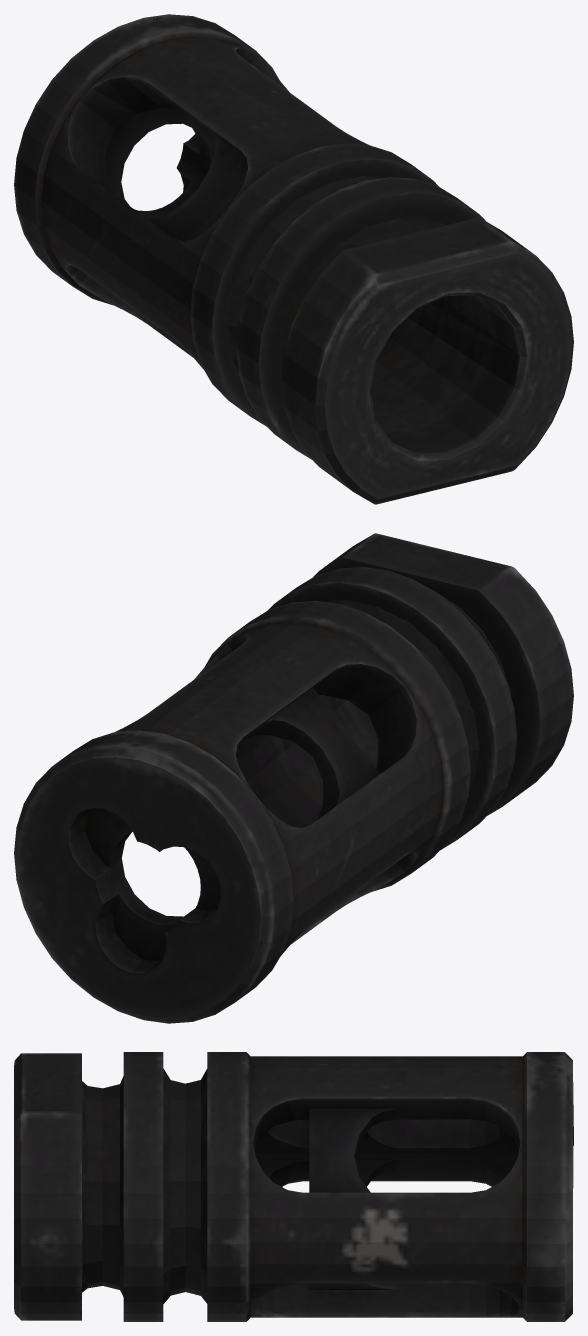
3 renders of one model, top to bottom at view 1: azimuth 30°, elevation 25°; view 2: azimuth 150°, elevation 25°; view 3: azimuth 270°, elevation 25°, orthographic. The views are drawn at different scales.
Parts seen in each view (by area): view 1: TW_6386120cd6baa055ad1e201c_PZ_Import; view 2: TW_6386120cd6baa055ad1e201c_PZ_Import; view 3: TW_6386120cd6baa055ad1e201c_PZ_Import.
Boxes of the visible parts, left/top/right/bottom form: TW_6386120cd6baa055ad1e201c_PZ_Import: left=14, top=14, right=573, bottom=504; TW_6386120cd6baa055ad1e201c_PZ_Import: left=14, top=533, right=573, bottom=1023; TW_6386120cd6baa055ad1e201c_PZ_Import: left=14, top=1052, right=573, bottom=1321.
Size of the model in its own units: 0.0125 by 0.0259 by 0.0125.
Materials: 1 (1 with a texture image).
